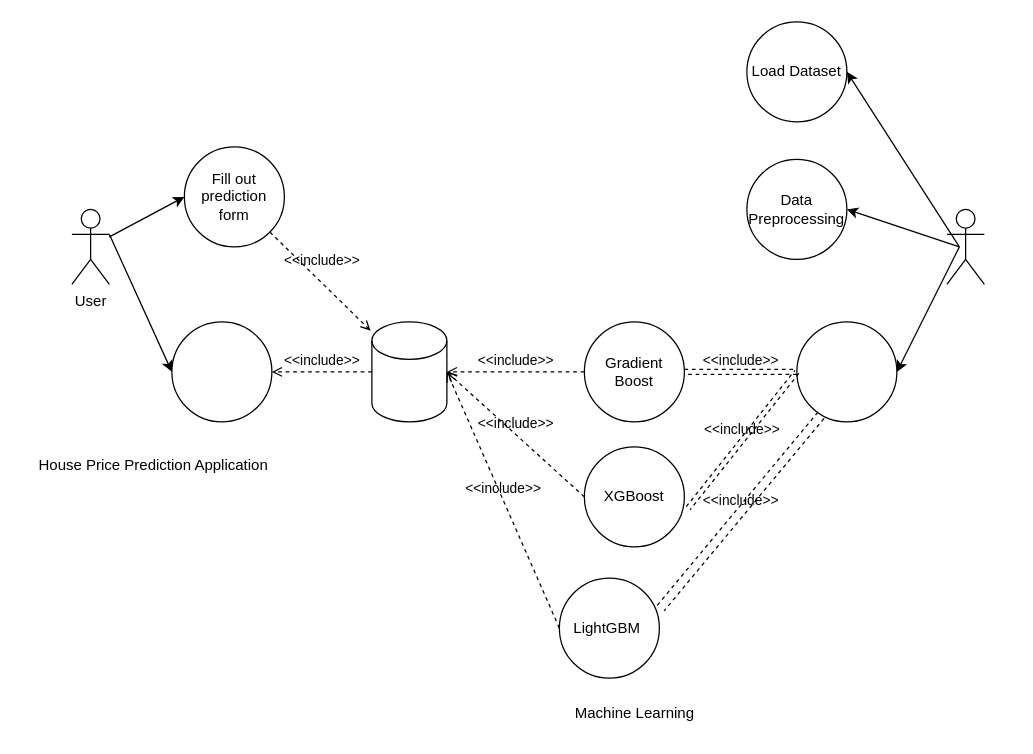
Some shapes in this 1033 by 754 pixel diagram are drawn without their labels. Each missing label, with the centre of its shape:
Data Scientist: the point at 965,246
Prediction Model: the point at 409,371
Prediction Results for Selling Price: the point at 221,371
Split Data: the point at 846,371
